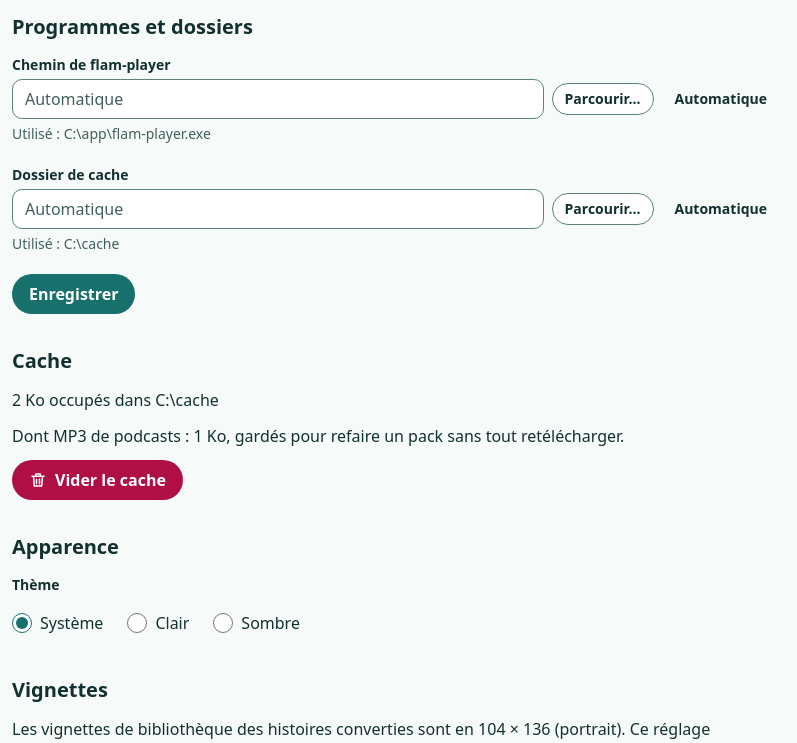
affiche l'erreur de validation renvoyée par le backend
Type "C:\\absent\\flam-player.exe" into the field labelled "Chemin de flam-player" at [278, 99], box [12, 79, 544, 119]
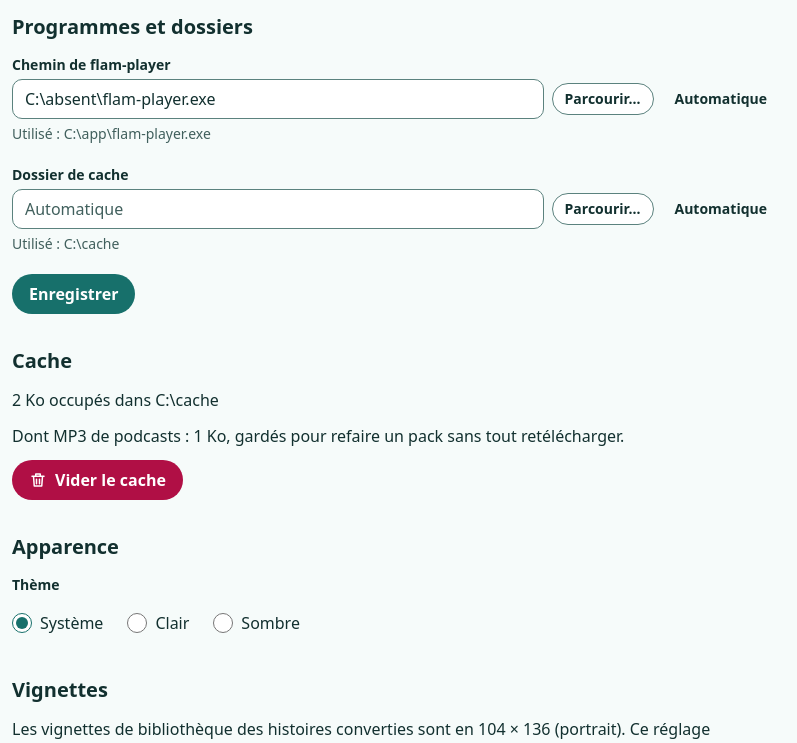
Click the button "Enregistrer" at [74, 294], box [12, 274, 136, 314]
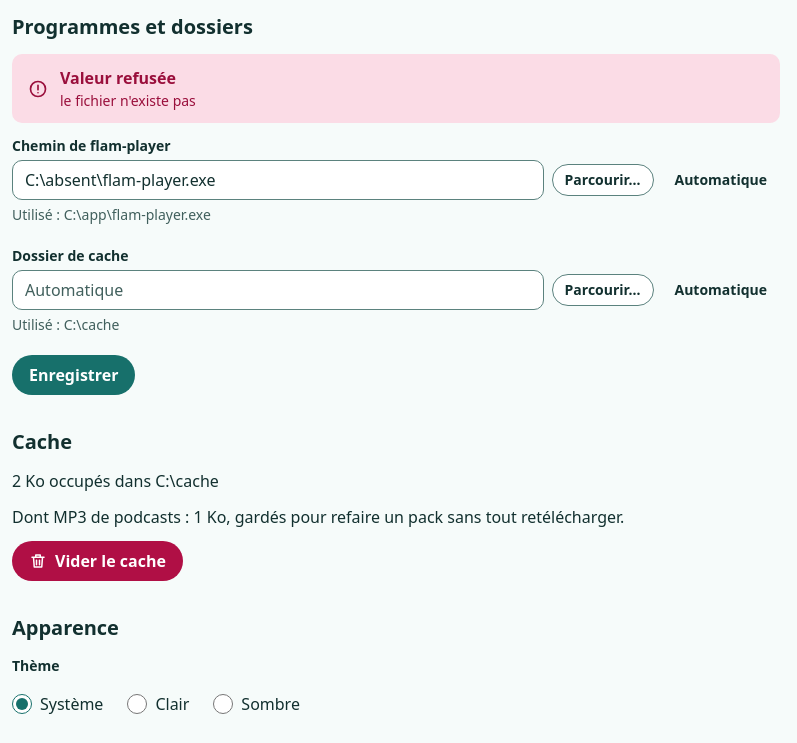
Check: the message shows "Valeur refusée", box [60, 67, 176, 89]
Check: the message shows "le fichier n'existe pas", box [60, 91, 196, 110]
